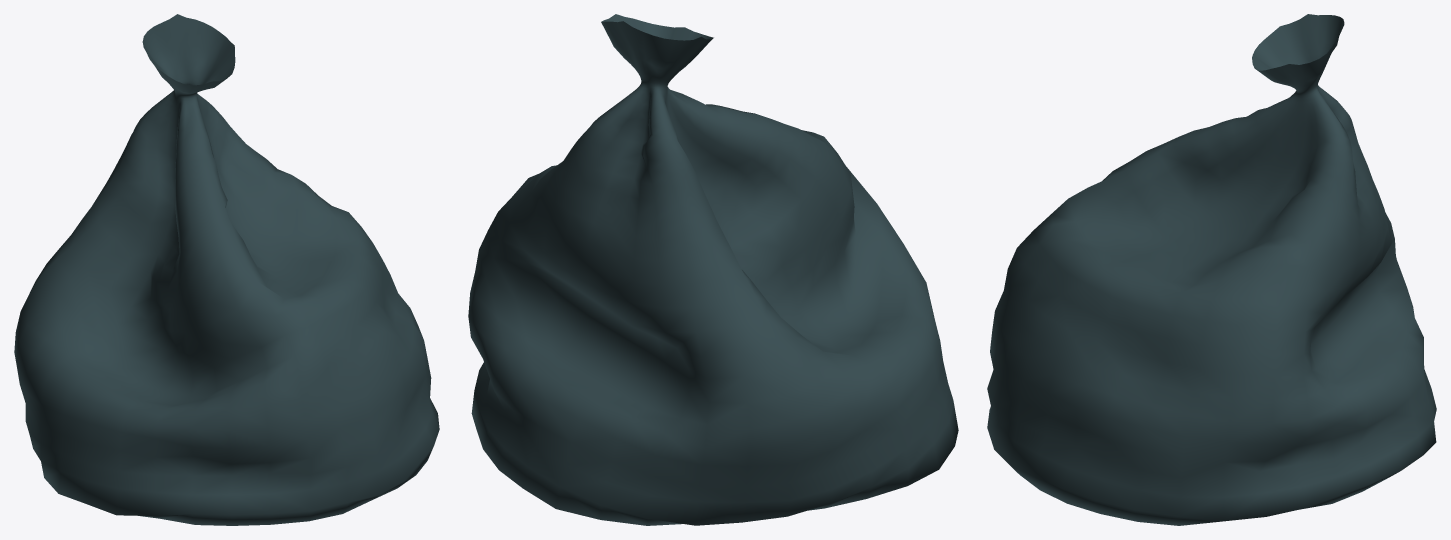
File: SM_GarbageBag_3.FBX
3 views of the same model, side by side, from view 1: azimuth 30°, elevation 25°; view 2: azimuth 150°, elevation 25°; view 3: azimuth 270°, elevation 25° (orthographic). The views are drawn at different scales.
Parts seen in each view (by area): view 1: SM_GarbageBag_3; view 2: SM_GarbageBag_3; view 3: SM_GarbageBag_3.
Boxes of the visible parts, box(x1,y1,x2,y2) form: SM_GarbageBag_3: box(14, 14, 439, 525); SM_GarbageBag_3: box(468, 14, 958, 525); SM_GarbageBag_3: box(987, 14, 1436, 525).
Bounding box in the file's own units: 64.45 × 65.89 × 64.23.
